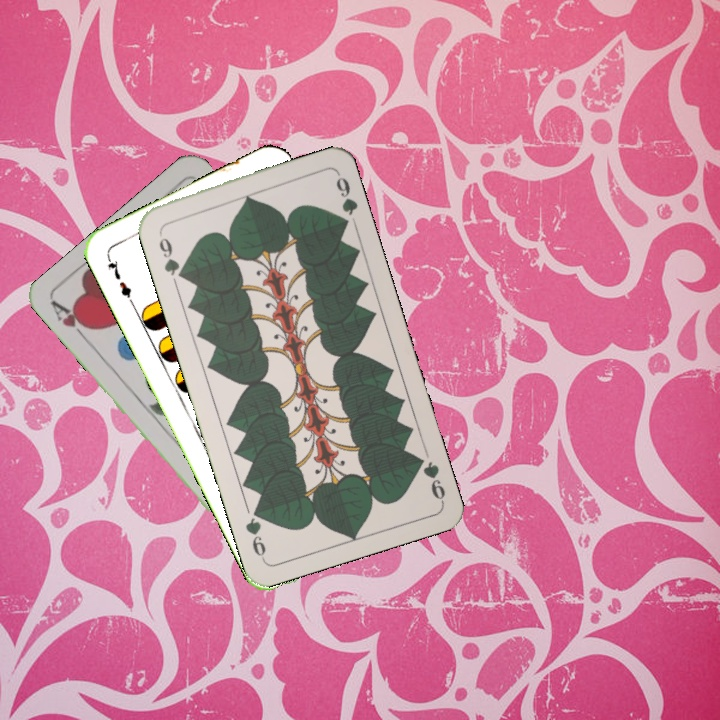E7: (102, 251, 136, 307)
G9: (410, 451, 448, 505), (154, 226, 188, 282)
HA: (47, 297, 95, 346)
